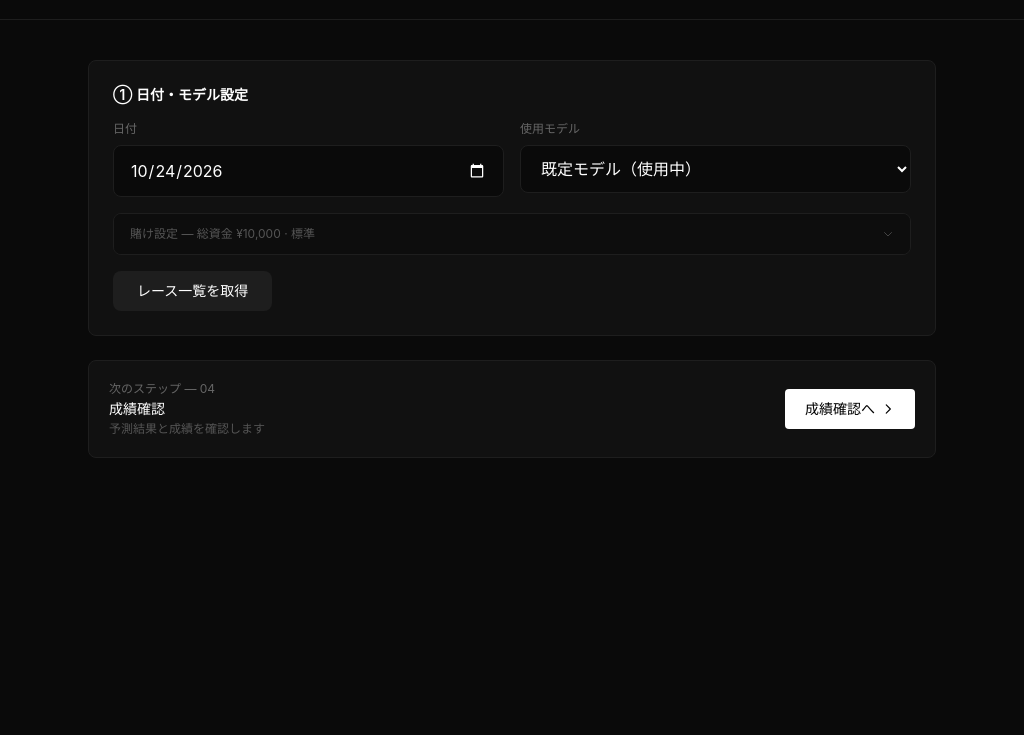
batch latest saved-data prediction › restores verified display-only results without running inference or writing records
Click the button "レース一覧を取得".
click(193, 291)  # box x1=113 y1=271 x2=272 y2=311
(page scrolled)
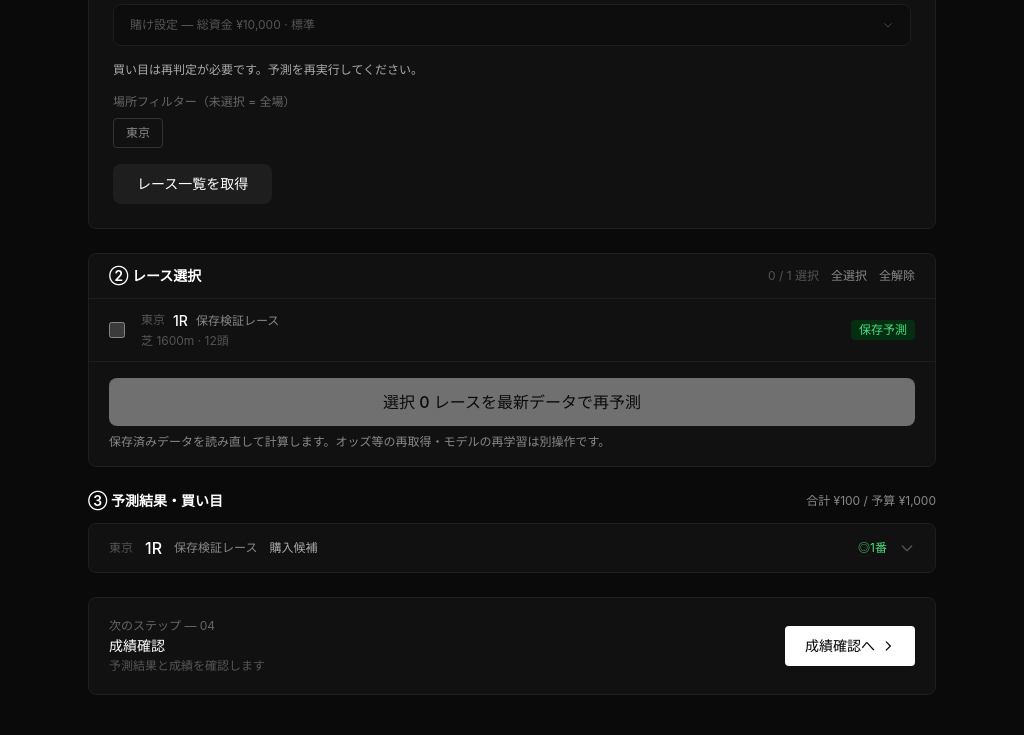
Now the checkbox is shown, box x1=109 y1=322 x2=125 y2=338
Now the text "合計 ¥100 / 予算 ¥1,000" is shown, box x1=806 y1=493 x2=936 y2=509
Click the button "東京 1R 保存検証レース 購入候補 ◎1番".
click(216, 548)  # box x1=89 y1=524 x2=935 y2=572
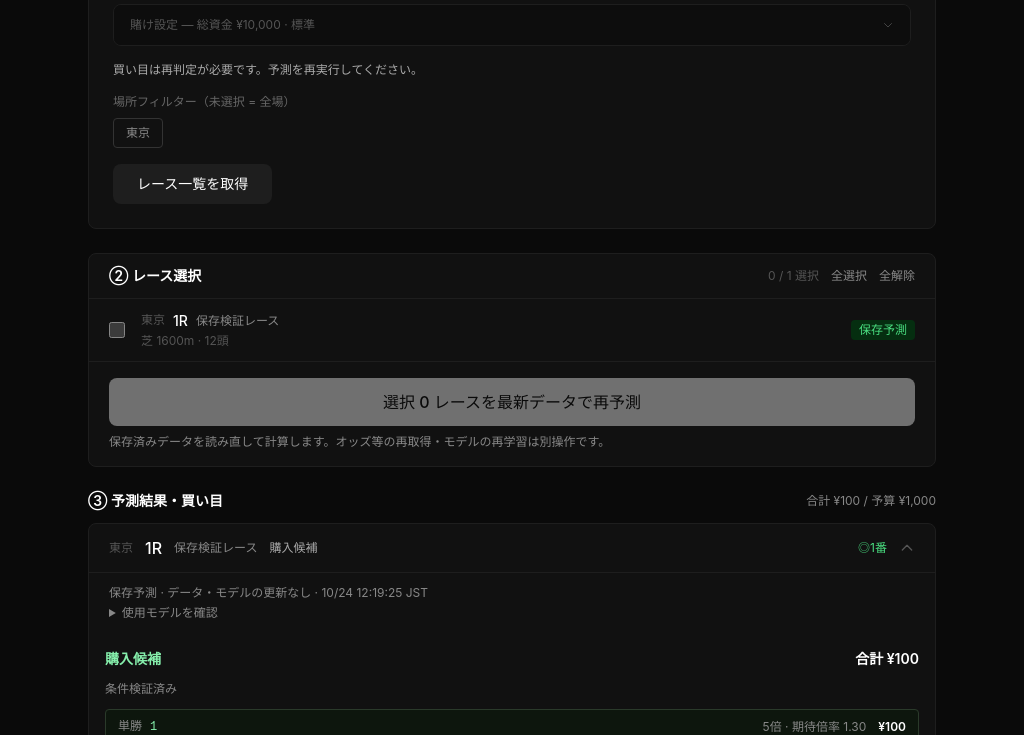
Now the message "保存予測 · データ・モデルの更新なし · 10/24 12:19:25 JST 使用モデルを確認" is shown, box x1=109 y1=585 x2=428 y2=620
Now the message with test id "prediction-freshness-notice" shows "保存予測 · データ・モデルの更新なし", box x1=109 y1=585 x2=311 y2=600
